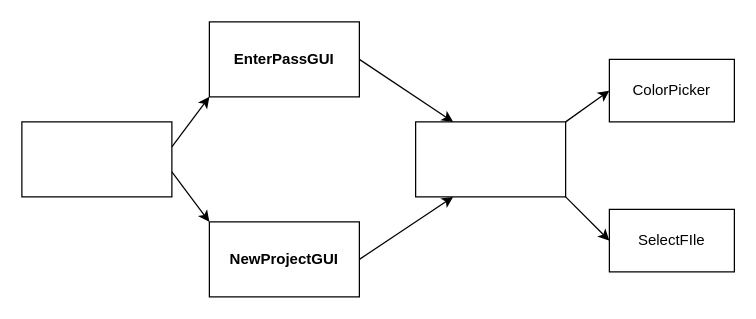
Image size: 756x319. Some labels were removed from this diagram. Each missing label, with the centre of its shape:
"CanvasGUI" goes at [490,159].
"SelectProjectGUI" goes at [96,159].
